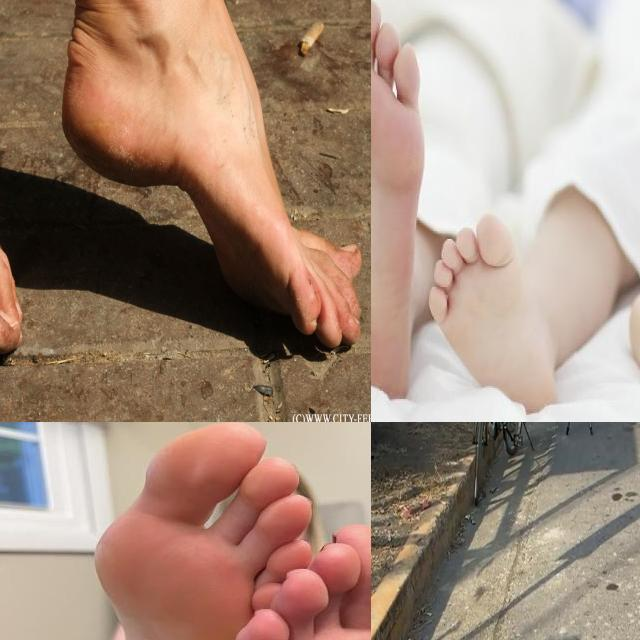Barefoots: (62, 12, 363, 348), (73, 428, 249, 640), (418, 212, 565, 422), (371, 0, 428, 410), (187, 517, 371, 640), (618, 282, 640, 408)
